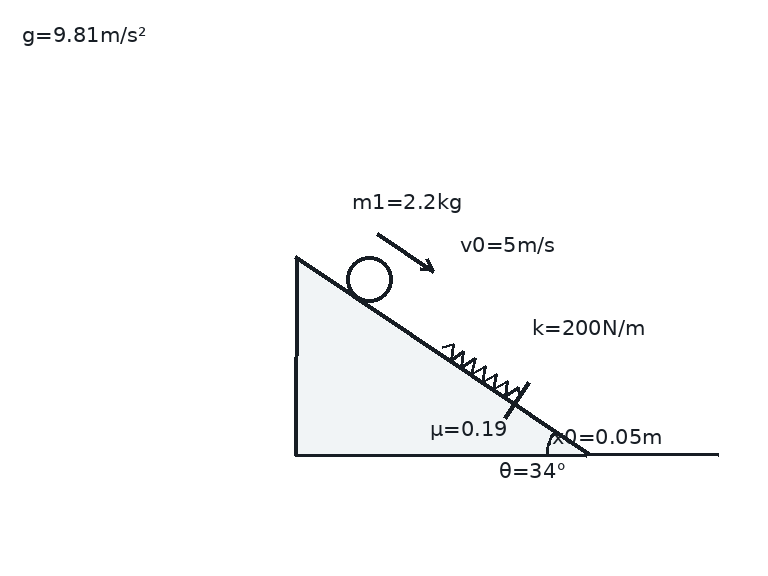ball: (344, 254, 394, 304)
ramp: (293, 255, 589, 456)
spring: (441, 342, 521, 399)
